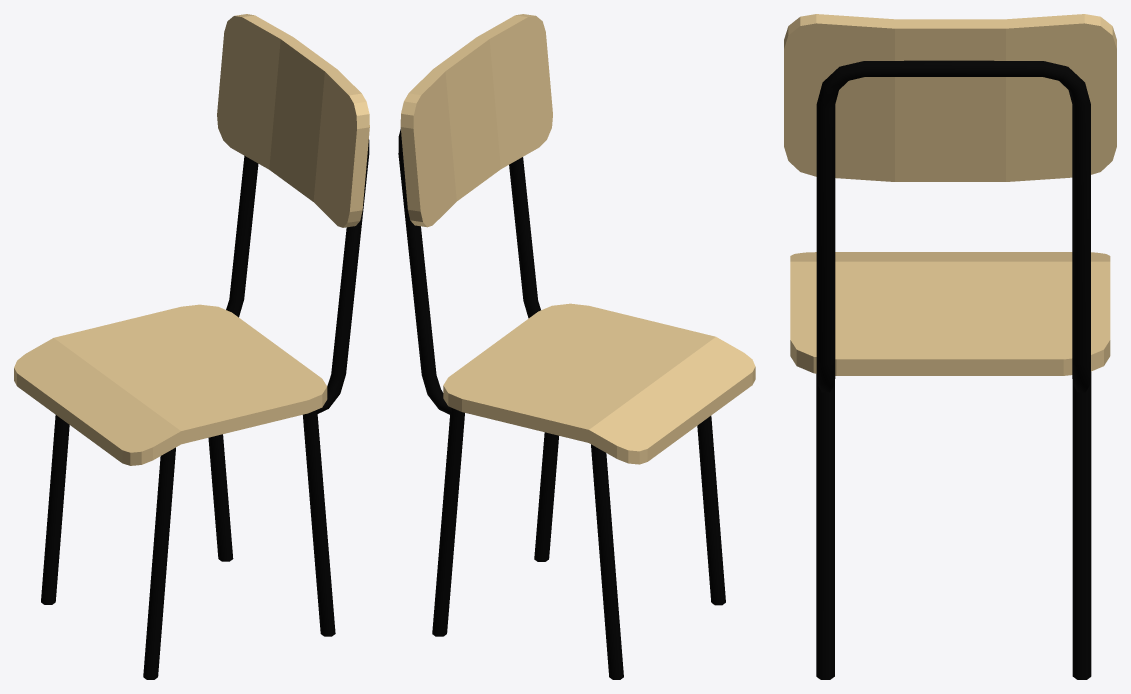
File: Chair2.fbx
3 views of the same model, side by side, from view 1: azimuth 30°, elevation 25°; view 2: azimuth 150°, elevation 25°; view 3: azimuth 270°, elevation 25° (orthographic). The views are drawn at different scales.
Visible parts, largest first — view 1: Chair2; view 2: Chair2; view 3: Chair2.
Part boxes in pixels (box(x1,y1,x2,y2)): Chair2: box(14, 14, 369, 679); Chair2: box(398, 14, 755, 679); Chair2: box(784, 14, 1116, 679).
Bounding box in the file's own units: 0.4274 × 0.8692 × 0.3896.
